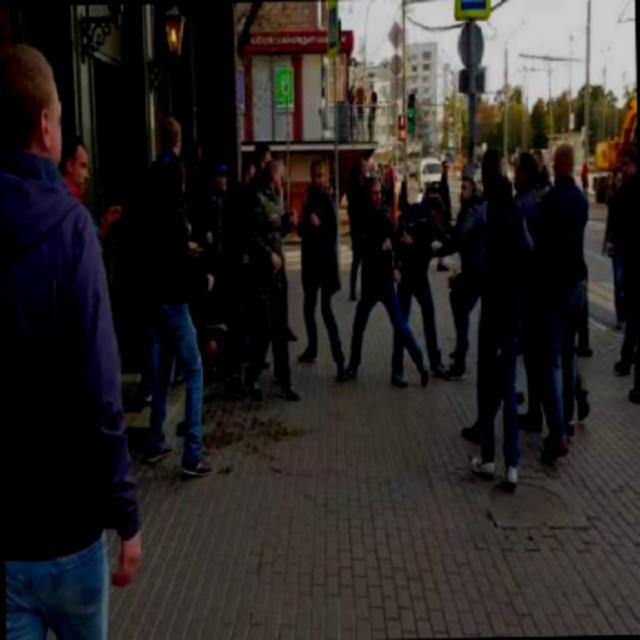fight: (396, 172, 484, 372)
non-fight: (142, 104, 220, 467), (216, 124, 296, 402), (530, 138, 593, 460), (300, 149, 345, 373)
